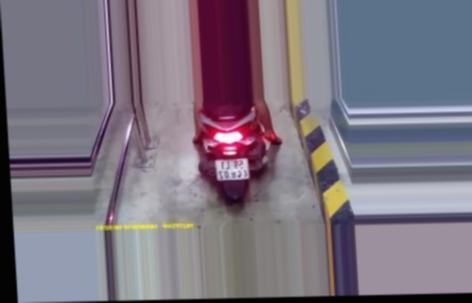License_Plate: (212, 153, 254, 183)
